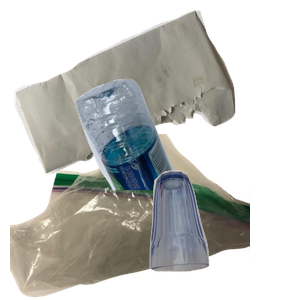glass: (147, 168, 300, 300)
paper: (12, 10, 240, 176)
plastic: (73, 76, 300, 256)
trash: (10, 134, 250, 300)
